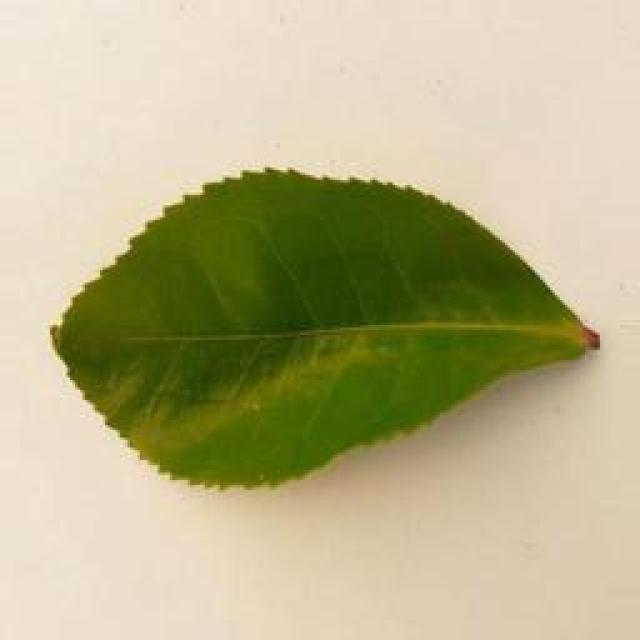Healthy: (24, 156, 612, 506)
